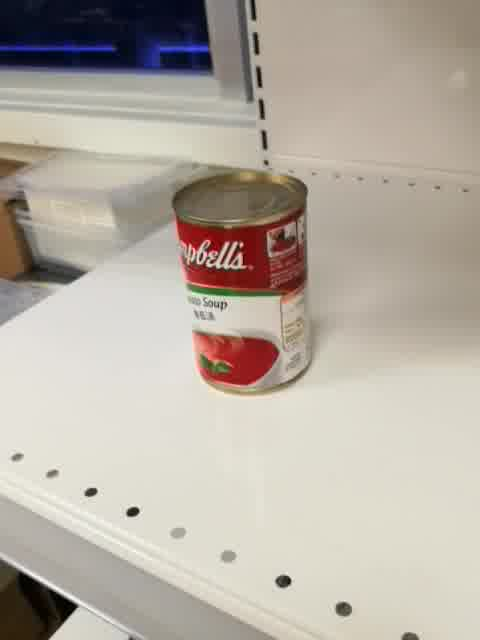tomatosoup: (169, 168, 314, 399)
